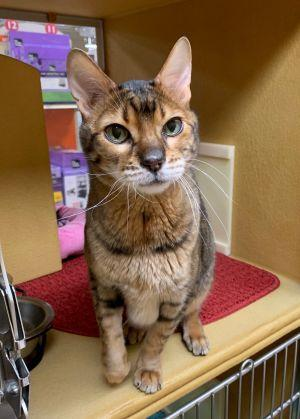bengal: (59, 32, 211, 205)
